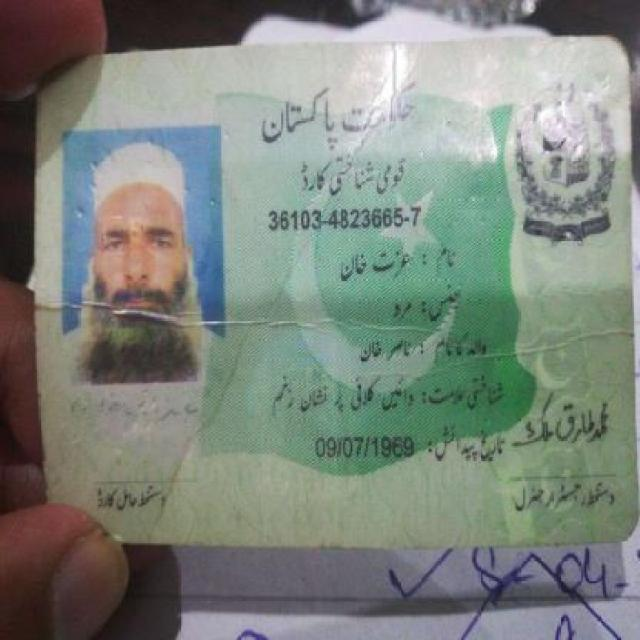Front: (24, 29, 634, 548)
